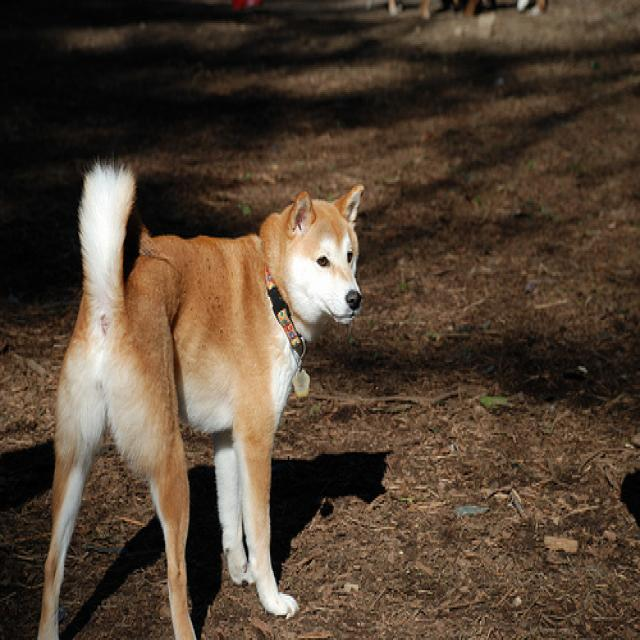dog-shiba_inu: (31, 161, 367, 636)
